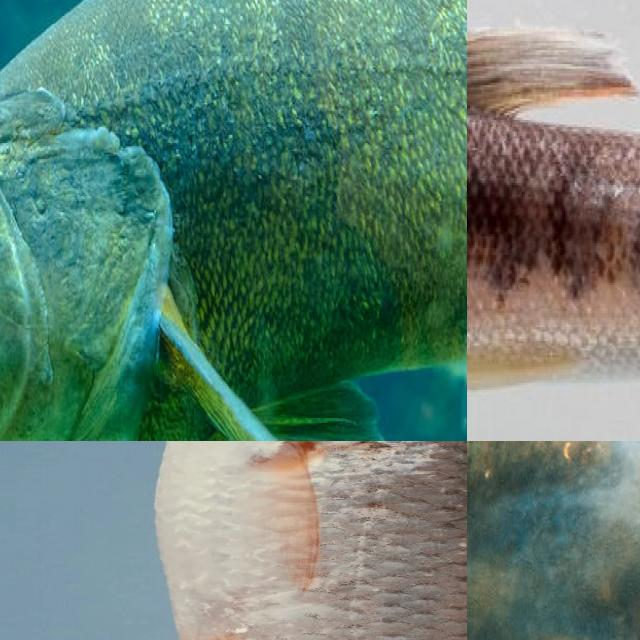fish: (0, 0, 467, 441), (0, 441, 467, 640), (467, 20, 640, 441), (467, 469, 640, 640)
